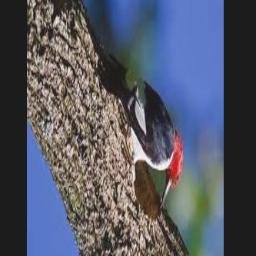Woodpecker: (98, 42, 183, 208)
